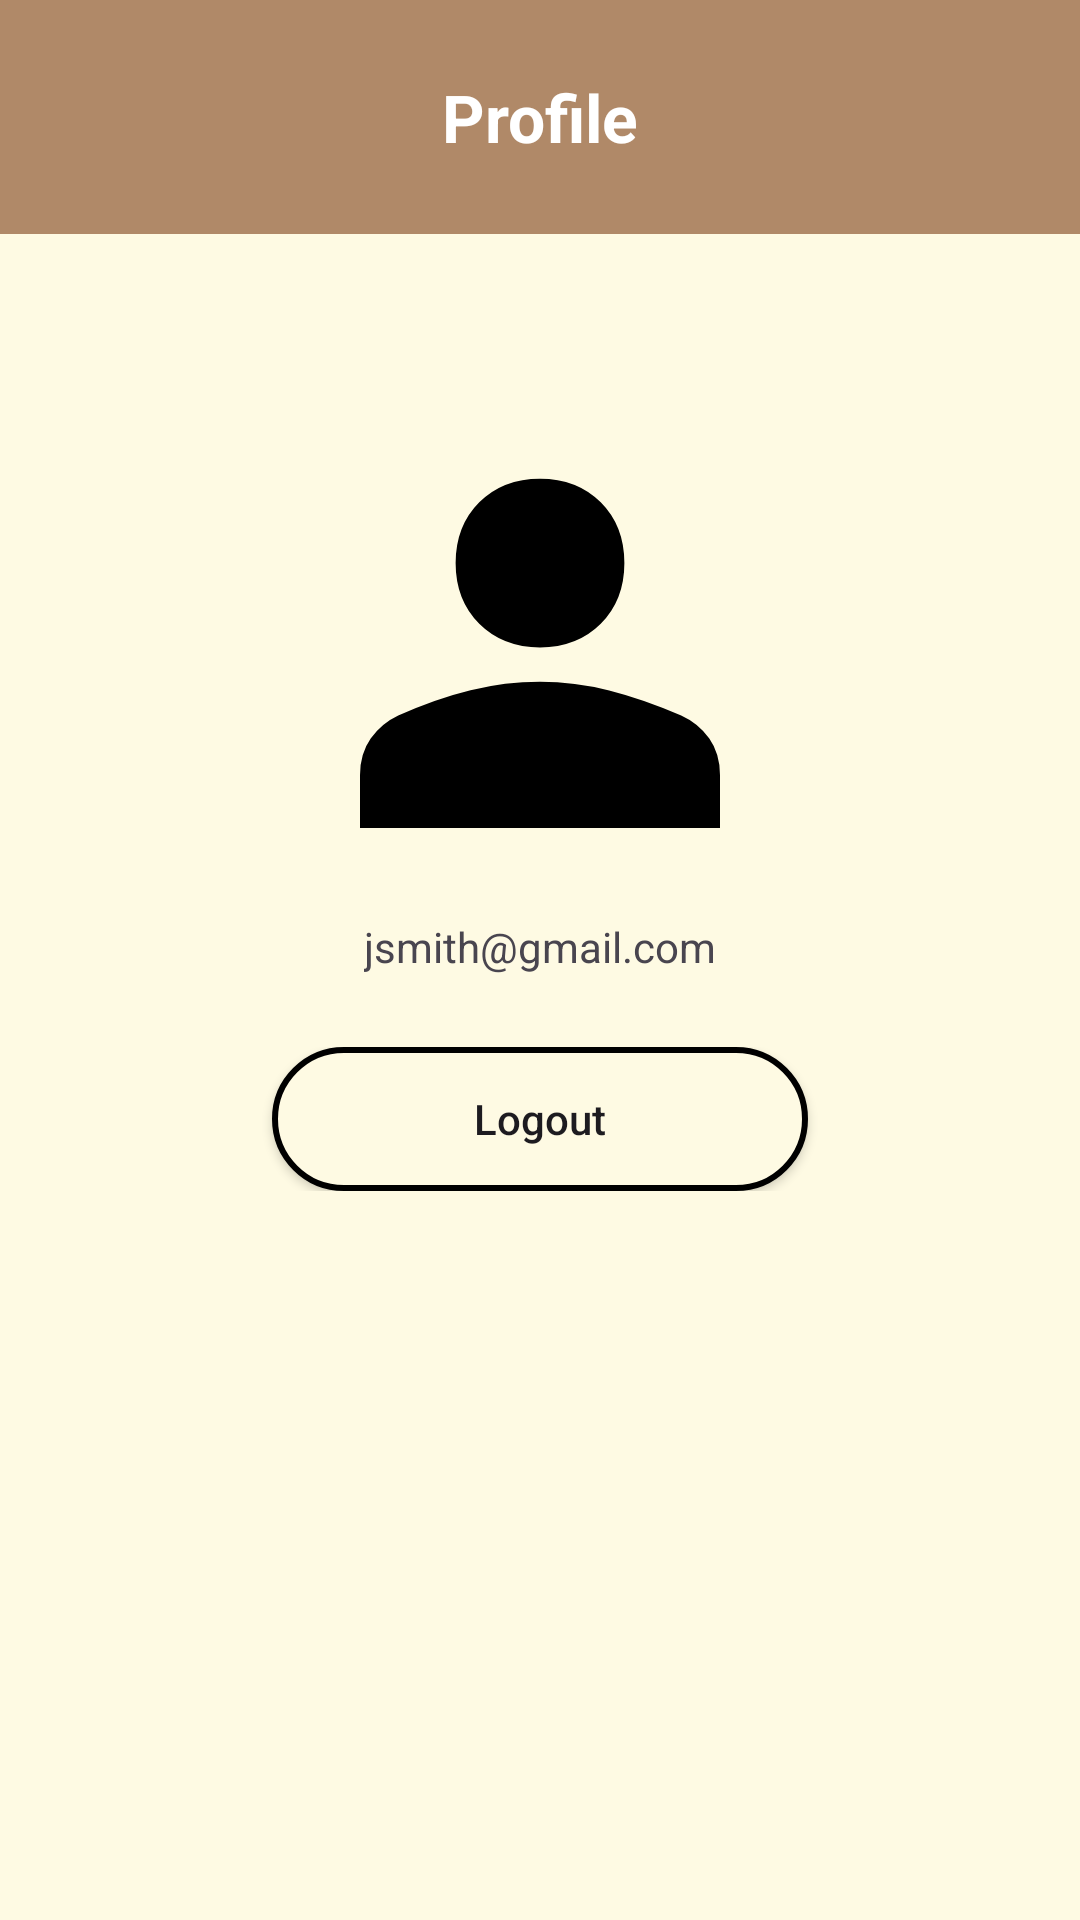

Icon bounding boxes for this 1080×1920 phone screenshot, format region(x1, y1, x2, y2):
user: region(360, 478, 720, 828)
